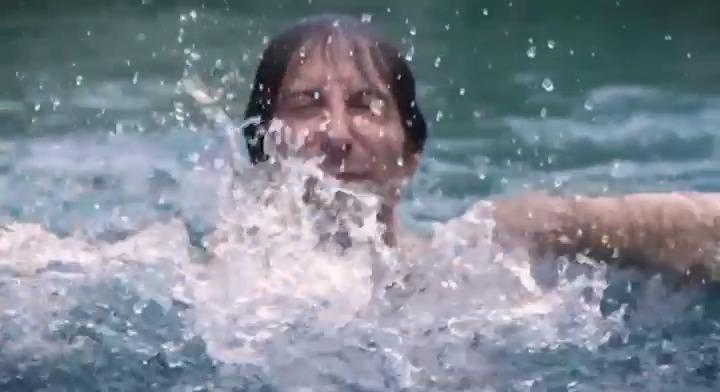Drowning: (7, 0, 720, 353)
